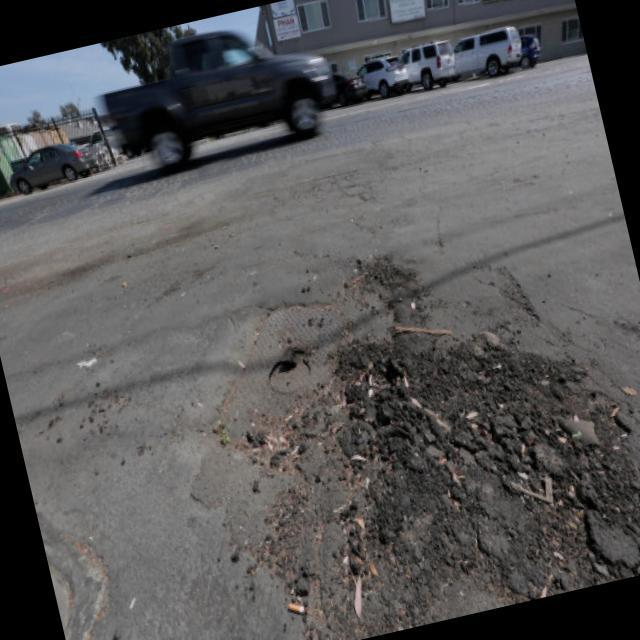Pothole: (200, 248, 640, 640)
